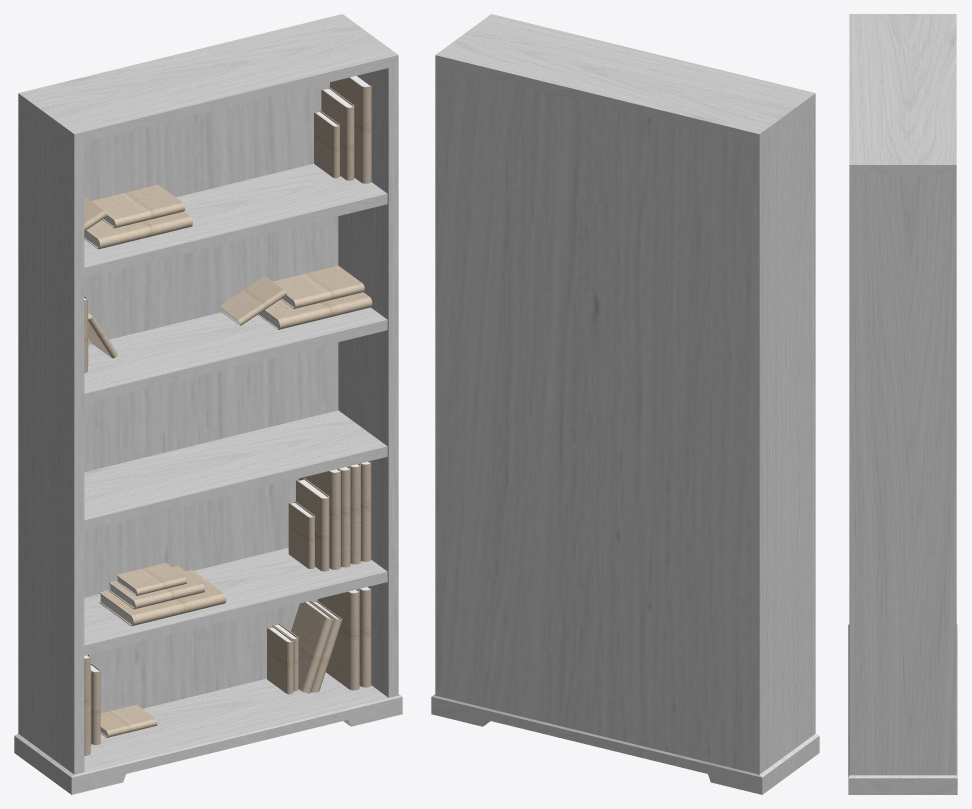
Rendered from bookshelf.glb.
3 views of the same model, side by side, from view 1: azimuth 30°, elevation 25°; view 2: azimuth 150°, elevation 25°; view 3: azimuth 270°, elevation 25° (orthographic). The views are drawn at different scales.
Visible parts, largest first — view 1: book, 上, 代, 3, 2, 1, 4, l, m.010, m.003, l.001, m (+20 smaller); view 2: book, 上, 代; view 3: book, 上, 代.
Part boxes in pixels (bbox=[...]): book: bbox=[18, 65, 398, 774]; 上: bbox=[18, 14, 398, 144]; 代: bbox=[14, 672, 402, 794]; 3: bbox=[84, 410, 387, 530]; 2: bbox=[84, 307, 387, 403]; 1: bbox=[84, 164, 387, 277]; 4: bbox=[84, 548, 387, 655]; l: bbox=[317, 589, 359, 690]; m.010: bbox=[91, 184, 184, 228]; m.003: bbox=[273, 265, 364, 308]; l.001: bbox=[99, 570, 226, 626]; m: bbox=[291, 601, 333, 693]; book: bbox=[435, 65, 815, 774]; 上: bbox=[435, 14, 815, 144]; 代: bbox=[431, 694, 819, 794]; book: bbox=[849, 174, 956, 775]; 上: bbox=[849, 14, 956, 174]; 代: bbox=[848, 624, 957, 794].
Bounding box in the file's own units: 2 × 3.81 × 0.6.
6 materials, 5 textured.
